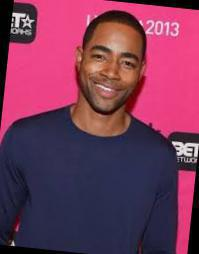Sober: (86, 27, 139, 108)
